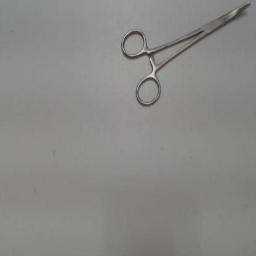Crile Artery Forceps: (118, 0, 254, 110)
